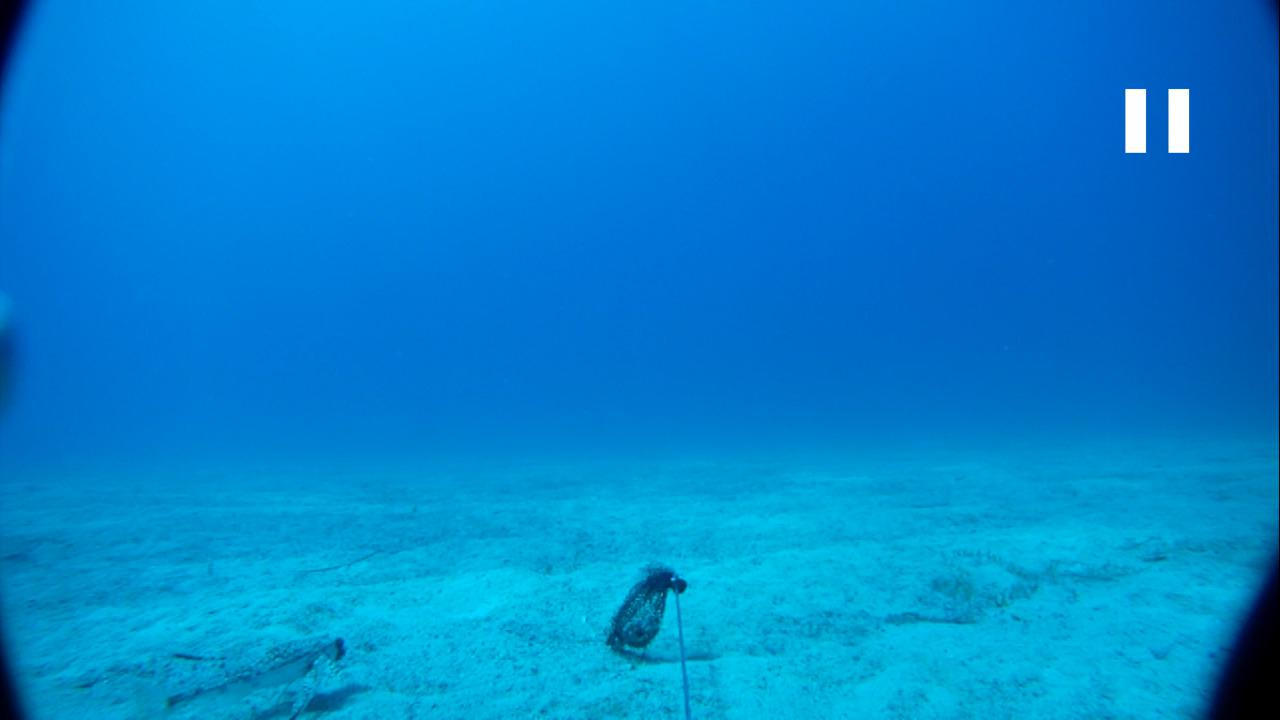dactylopterus: (155, 633, 354, 719)
